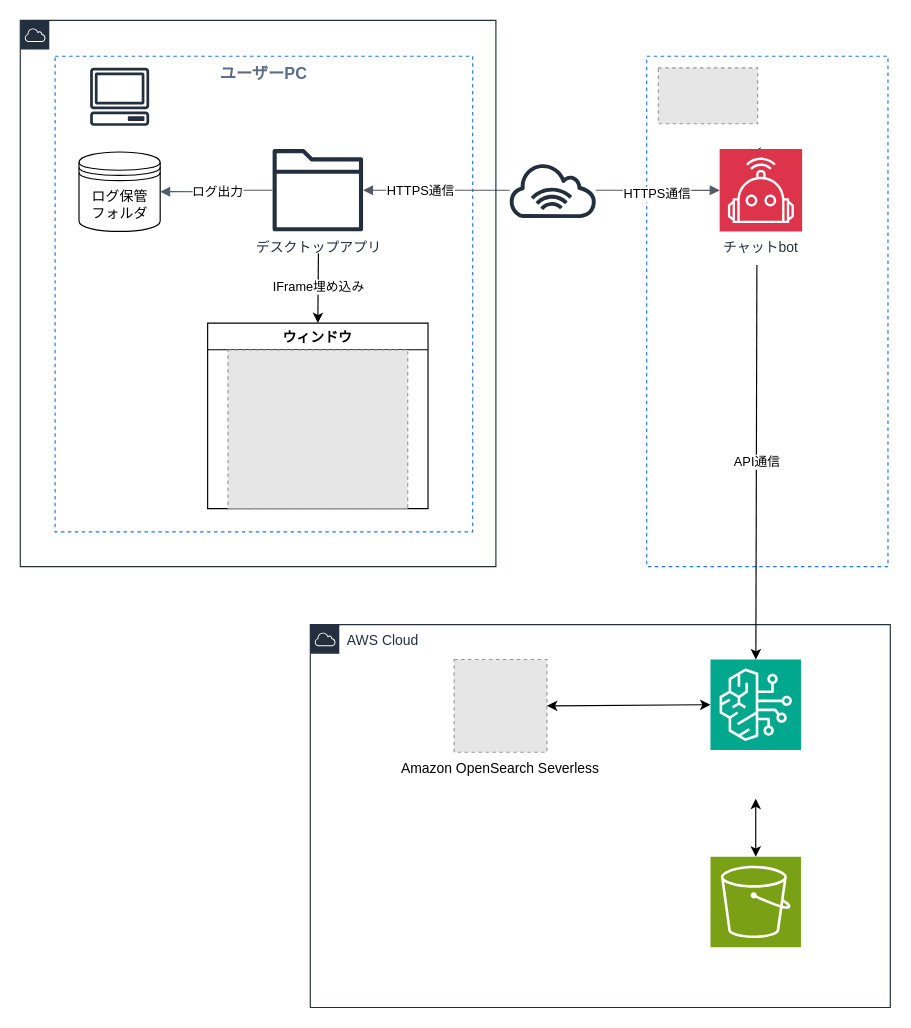
Some shapes in this 911 by 1028 pixel diagram are drawn without their labels. Grey dashed boxes stand in for pictures. Here are the shapes that lost their labels. From the top down, the box of each, then its label:
(19, 19, 496, 567): 社内LAN
(646, 55, 888, 567): Dify（Saas）
(709, 658, 801, 750): Amazon Bedrock Knowledege Bases
(709, 855, 801, 947): Amazon S3
